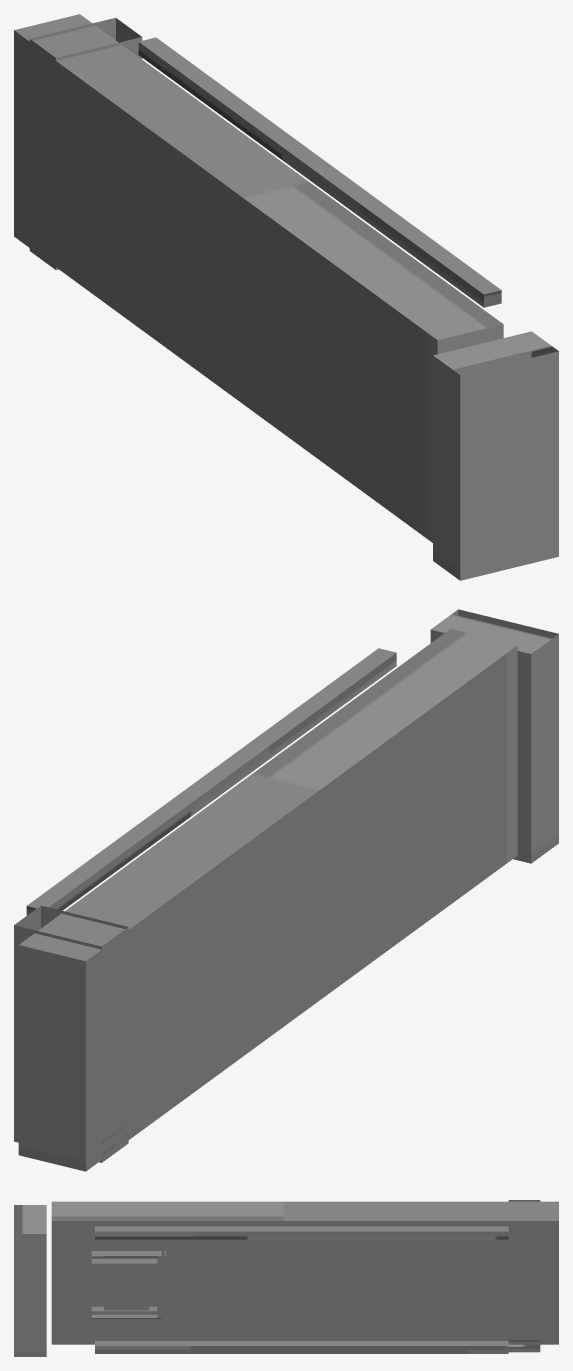
3 renders of one model, top to bottom at view 1: azimuth 30°, elevation 25°; view 2: azimuth 150°, elevation 25°; view 3: azimuth 270°, elevation 25°, orthographic. The views are drawn at different scales.
Bounding box in the file's own units: 0.183 × 0.3496 × 1.32.
